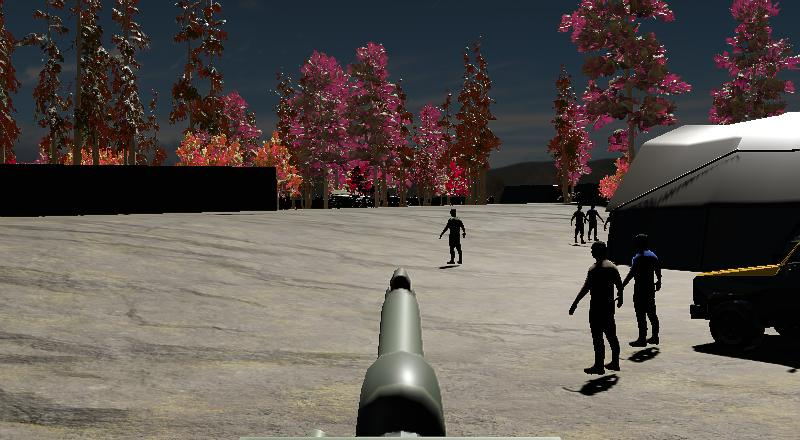Human: (567, 238, 624, 376), (619, 231, 668, 349), (438, 206, 468, 267), (569, 201, 588, 247)
car: (686, 226, 800, 364)
